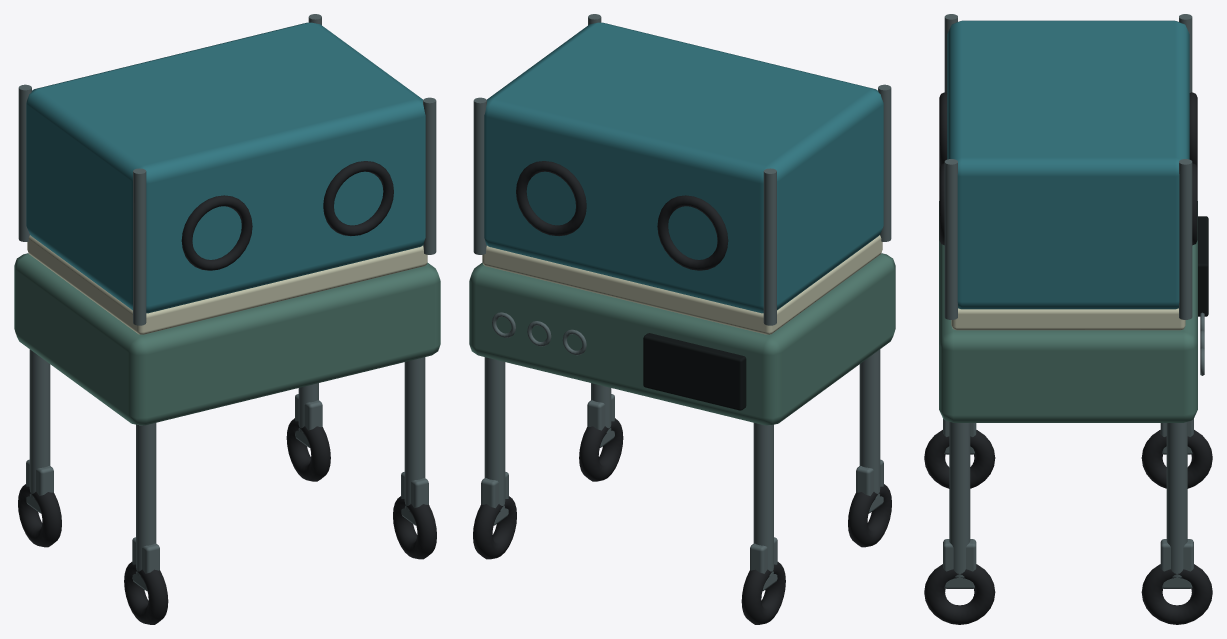
File: Incubator.obj
The picture shows the model from 3 angles, left to right: view 1: azimuth 30°, elevation 25°; view 2: azimuth 150°, elevation 25°; view 3: azimuth 270°, elevation 25°; orthographic projection. The views are drawn at different scales.
Parts seen in each view (by area): view 1: Incubator; view 2: Incubator; view 3: Incubator.
Part boxes in pixels (x1,y1,x2,y2): Incubator: [14, 14, 440, 624]; Incubator: [469, 14, 895, 624]; Incubator: [924, 14, 1212, 624].
Bounding box in the file's own units: 0.88 × 1.24 × 0.69.
